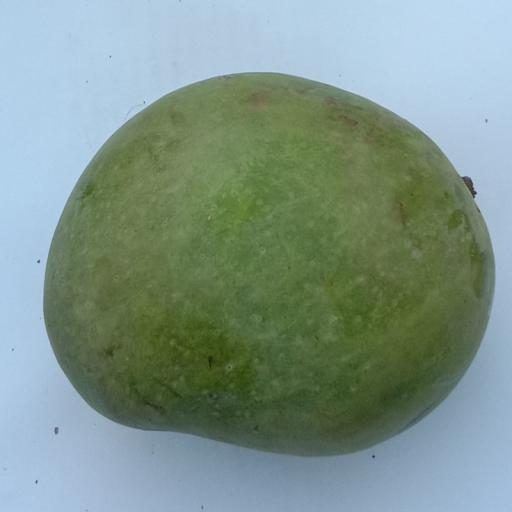mango-unripe: (32, 63, 500, 471)
